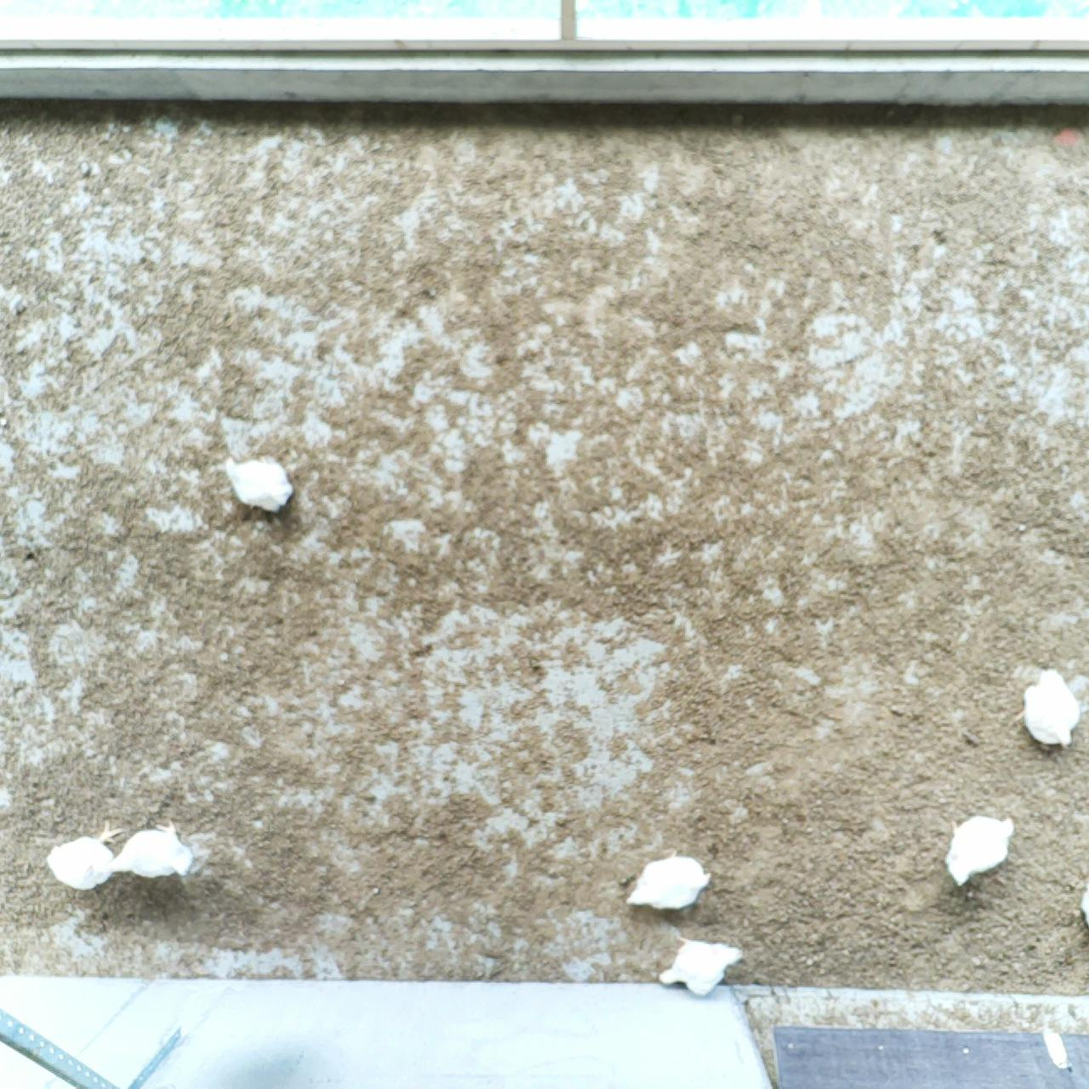chicken: (103, 818, 198, 885), (944, 811, 1018, 893), (653, 937, 743, 1002), (44, 823, 123, 895), (624, 854, 718, 914), (1018, 666, 1082, 749), (214, 453, 297, 511), (1072, 881, 1089, 934)
